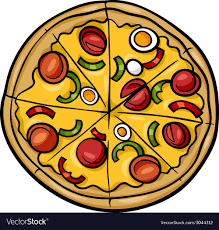pizza: (4, 3, 217, 212)
